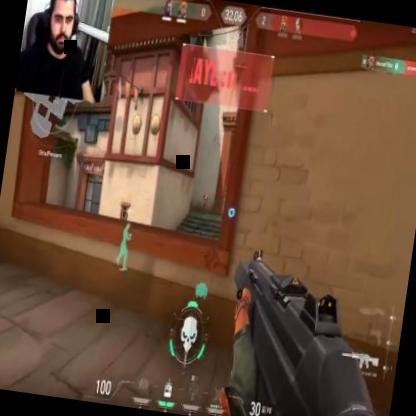enemy: (200, 190, 210, 214)
enemy_head: (204, 191, 208, 194)
